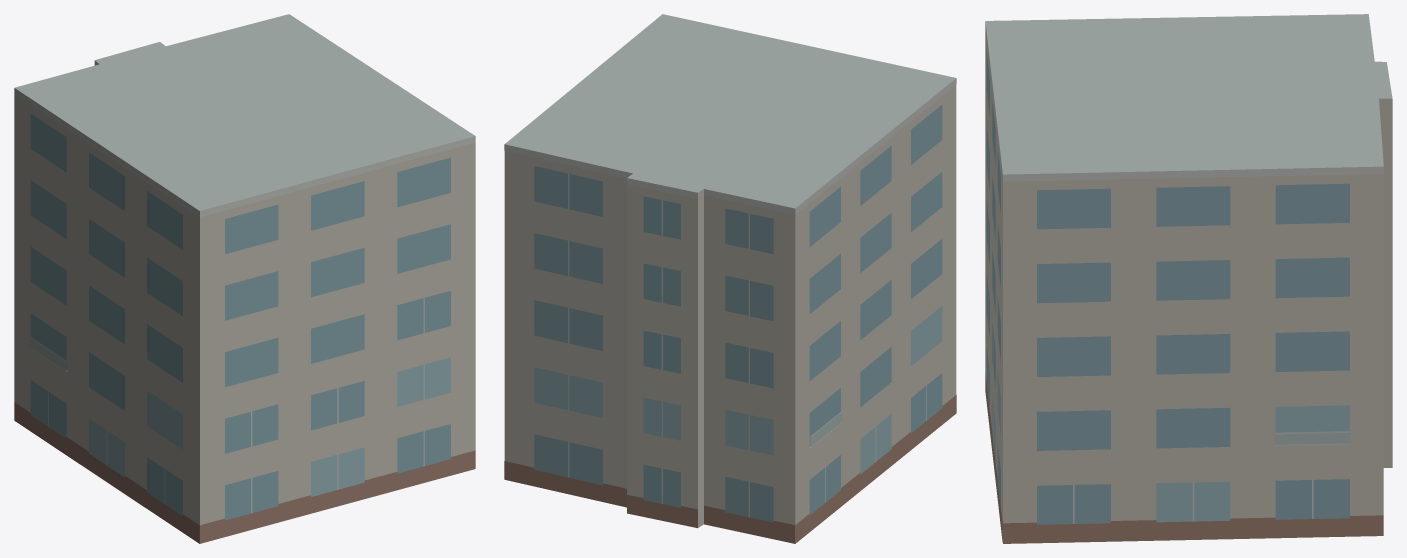
Rendered from survey-upis-32871273.glb.
3 views of the same model, side by side, from view 1: azimuth 30°, elevation 25°; view 2: azimuth 150°, elevation 25°; view 3: azimuth 270°, elevation 25° (orthographic). The views are drawn at different scales.
Parts seen in each view (by area): view 1: survey-upis-32871273.tmp; view 2: survey-upis-32871273.tmp; view 3: survey-upis-32871273.tmp.
Part boxes in pixels (<box>): survey-upis-32871273.tmp: <box>14,14,475,543</box>; survey-upis-32871273.tmp: <box>504,14,956,543</box>; survey-upis-32871273.tmp: <box>985,14,1392,543</box>.
Bounding box in the file's own units: 11.85 × 12.7 × 12.7.
